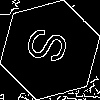S: (25, 25, 78, 69)
